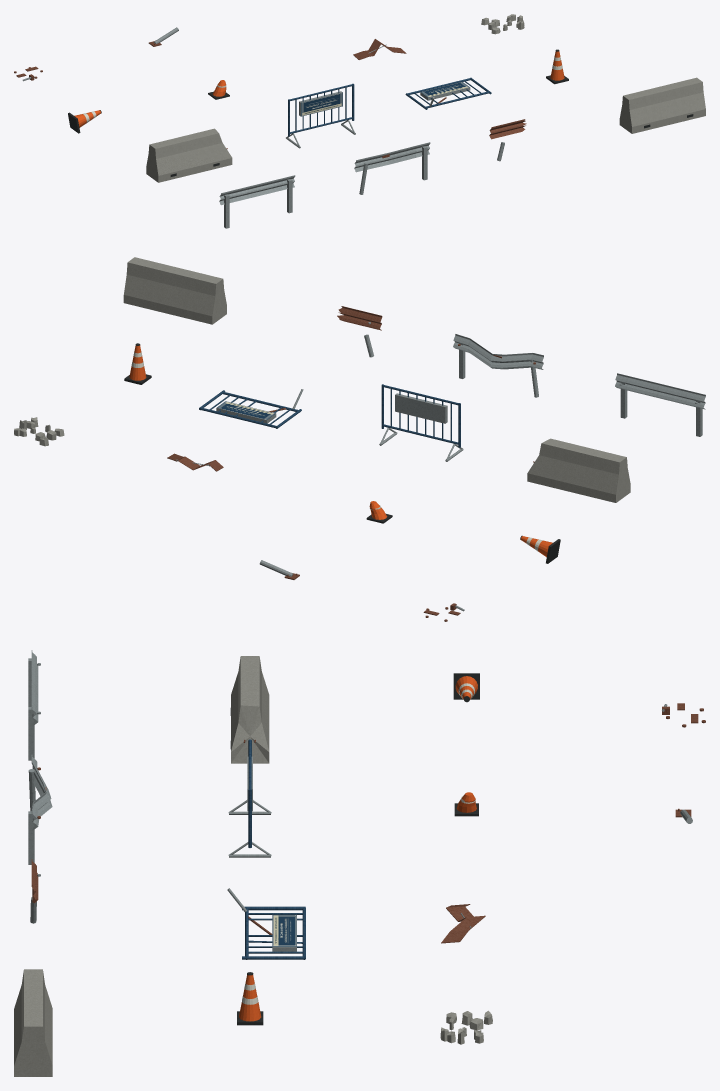
Rendered from BARRIER_local.glb.
3 renders of one model, top to bottom at view 1: azimuth 30°, elevation 25°; view 2: azimuth 150°, elevation 25°; view 3: azimuth 270°, elevation 25°, orthographic. The views are drawn at different scales.
Parts seen in each view (by area): view 1: Render_Jersey_Worn_2m_CastBarrier, Render_Jersey_BrokenEnd_2m_CastBarrier, Render_WBeam_CrashDented_2m_WProfile, Render_WBeam_Straight_2m_WProfile, Render_PoliceBarricade_Upright_SteelFrameAndSpindles, Render_PoliceBarricade_Upright_RavenCountyPoliceSign, Render_PoliceBarricade_Fallen_SteelFrameAndSpindles, Render_WBeam_TornEnd_1m_WProfile, Render_Debris_11AngularConcreteBlocks, Render_WBeam_Straight_2m_UChannelPosts, Render_WBeam_CrashDented_2m_UChannelPosts, Render_Scrap_TwistedSteelRibbon; view 2: Render_Jersey_Worn_2m_CastBarrier, Render_Jersey_BrokenEnd_2m_CastBarrier, Render_WBeam_Straight_2m_WProfile, Render_WBeam_CrashDented_2m_WProfile, Render_PoliceBarricade_Upright_SteelFrameAndSpindles, Render_PoliceBarricade_Upright_SignBacking, Render_PoliceBarricade_Fallen_SteelFrameAndSpindles, Render_Debris_11AngularConcreteBlocks, Render_WBeam_TornEnd_1m_WProfile; view 3: Render_Jersey_Worn_2m_CastBarrier, Render_Jersey_BrokenEnd_2m_CastBarrier, Render_PoliceBarricade_Fallen_SteelFrameAndSpindles, Render_Debris_11AngularConcreteBlocks, Render_PoliceBarricade_Fallen_RavenCountyPoliceSign, Render_Scrap_TwistedSteelRibbon, Render_WBeam_CrashDented_2m_WProfile.
Boxes of the visible parts, x1,y1,x2,y2 form: Render_Jersey_Worn_2m_CastBarrier: [619, 77, 705, 133]; Render_Jersey_BrokenEnd_2m_CastBarrier: [146, 128, 232, 182]; Render_WBeam_CrashDented_2m_WProfile: [354, 142, 430, 172]; Render_WBeam_Straight_2m_WProfile: [219, 175, 295, 205]; Render_PoliceBarricade_Upright_SteelFrameAndSpindles: [288, 83, 354, 136]; Render_PoliceBarricade_Upright_RavenCountyPoliceSign: [301, 92, 342, 116]; Render_PoliceBarricade_Fallen_SteelFrameAndSpindles: [405, 77, 491, 109]; Render_WBeam_TornEnd_1m_WProfile: [489, 119, 526, 139]; Render_Debris_11AngularConcreteBlocks: [481, 14, 524, 34]; Render_WBeam_Straight_2m_UChannelPosts: [224, 179, 292, 228]; Render_WBeam_CrashDented_2m_UChannelPosts: [359, 146, 427, 194]; Render_Scrap_TwistedSteelRibbon: [353, 39, 406, 59]; Render_Jersey_Worn_2m_CastBarrier: [123, 257, 226, 324]; Render_Jersey_BrokenEnd_2m_CastBarrier: [527, 438, 630, 502]; Render_WBeam_Straight_2m_WProfile: [615, 373, 705, 409]; Render_WBeam_CrashDented_2m_WProfile: [453, 334, 543, 369]; Render_PoliceBarricade_Upright_SteelFrameAndSpindles: [381, 384, 460, 447]; Render_PoliceBarricade_Upright_SignBacking: [395, 393, 447, 423]; Render_PoliceBarricade_Fallen_SteelFrameAndSpindles: [199, 390, 301, 428]; Render_Debris_11AngularConcreteBlocks: [14, 417, 64, 446]; Render_WBeam_TornEnd_1m_WProfile: [337, 306, 382, 330]; Render_Jersey_Worn_2m_CastBarrier: [14, 969, 52, 1076]; Render_Jersey_BrokenEnd_2m_CastBarrier: [231, 656, 269, 763]; Render_PoliceBarricade_Fallen_SteelFrameAndSpindles: [242, 906, 305, 959]; Render_Debris_11AngularConcreteBlocks: [440, 1010, 492, 1044]; Render_PoliceBarricade_Fallen_RavenCountyPoliceSign: [272, 914, 296, 946]; Render_Scrap_TwistedSteelRibbon: [441, 904, 485, 943]; Render_WBeam_CrashDented_2m_WProfile: [31, 755, 52, 830].
Bounding box in the file's own units: 13.27 × 1.2 × 10.22.
8 materials, 8 textured.
